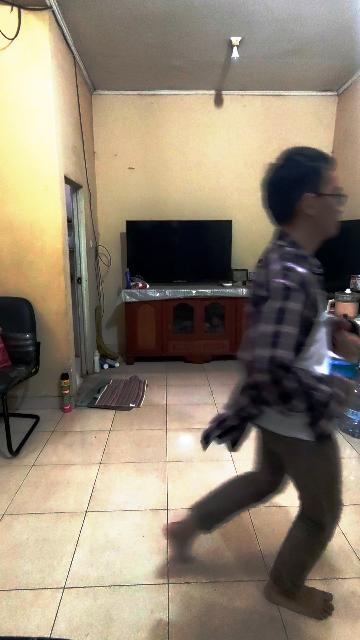berlari: (170, 146, 338, 620)
